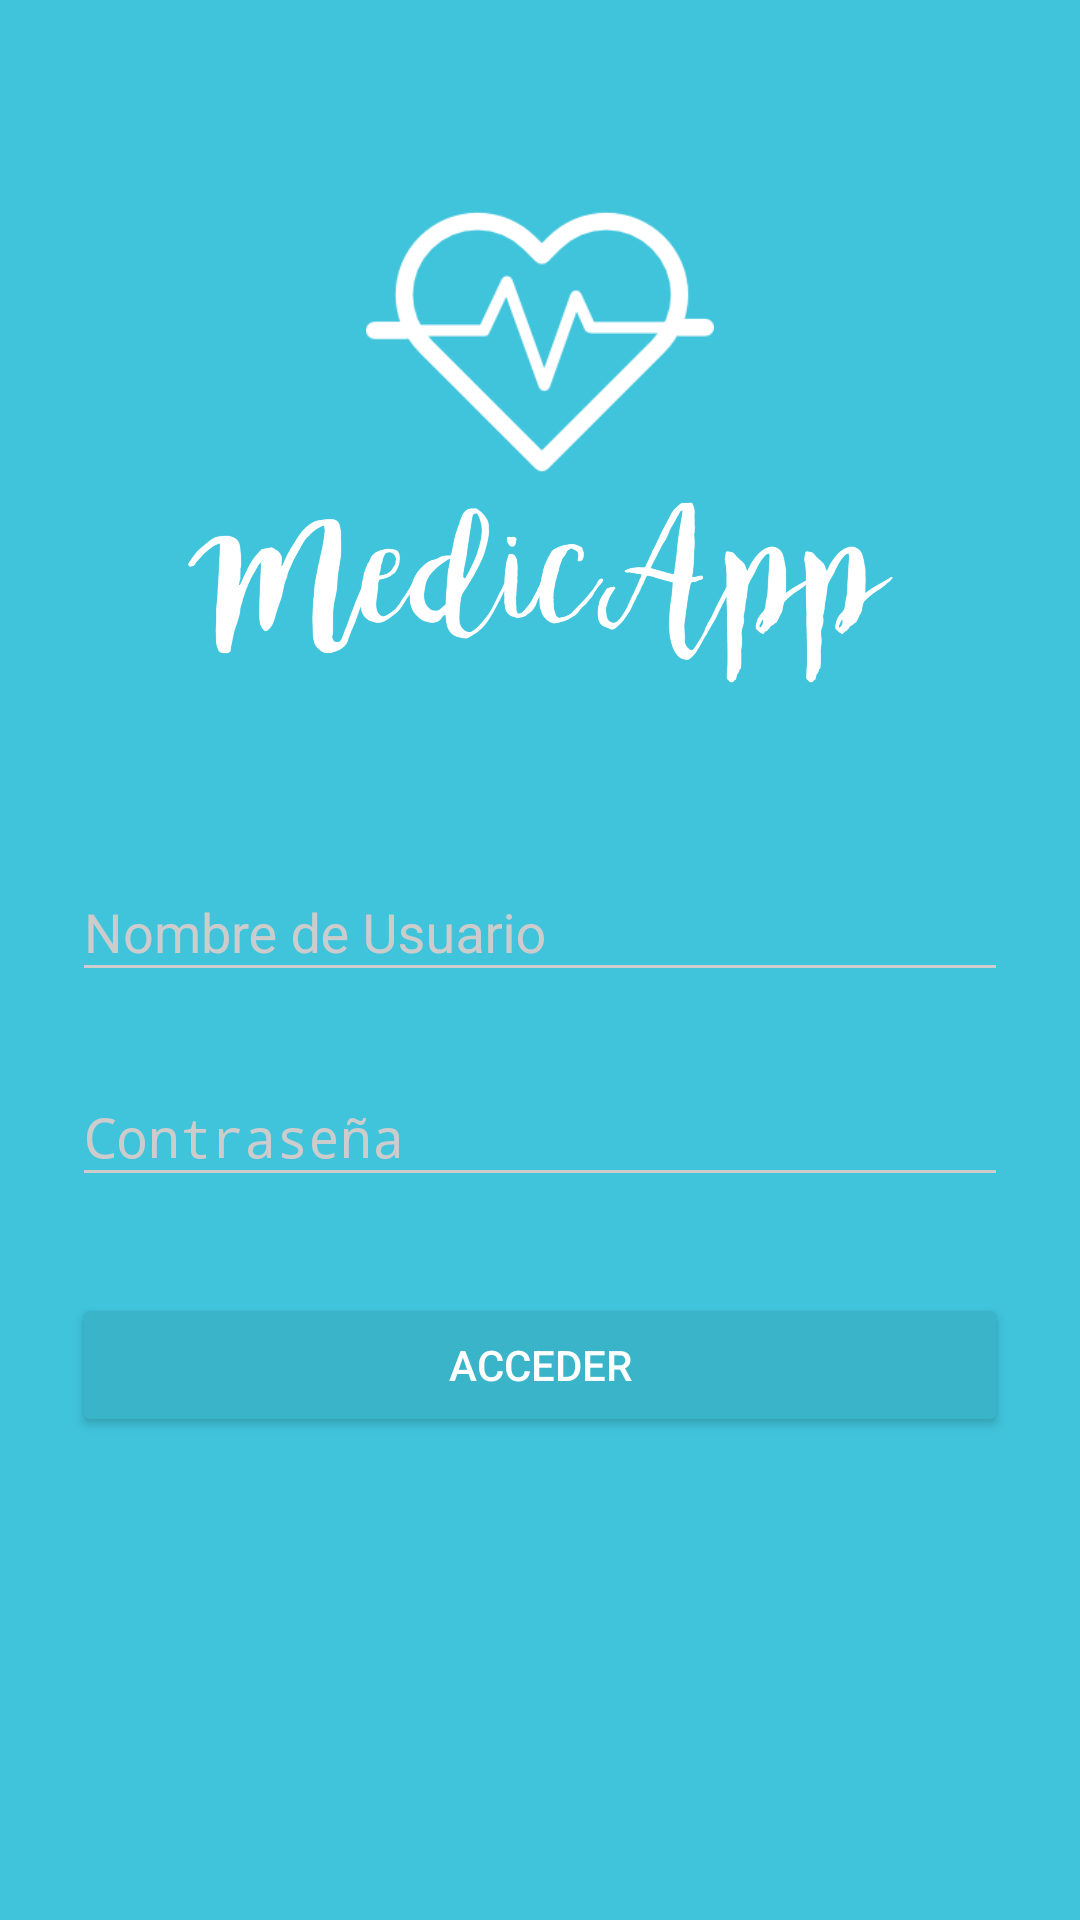

Icons on this 1080×1920 Android screen, each with its box as (x1, y1, x2, y2):
heartbeat: (366, 212, 714, 472)
